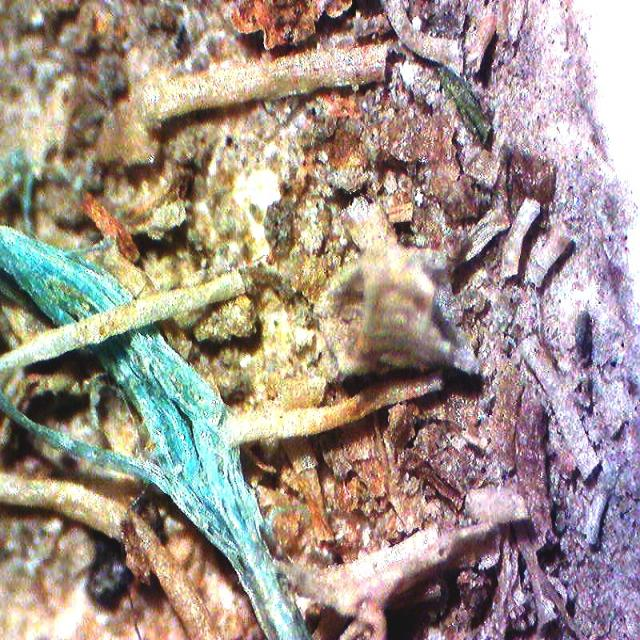microplastic: (0, 282, 390, 640), (0, 218, 144, 350)
